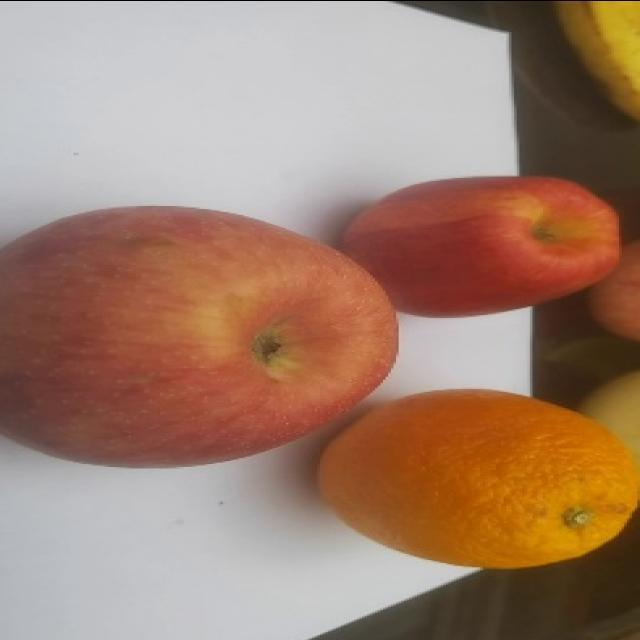Apple: (0, 203, 399, 468), (339, 174, 621, 317), (586, 238, 639, 341)
Banana: (553, 0, 639, 121)
Orange: (315, 387, 639, 570)
